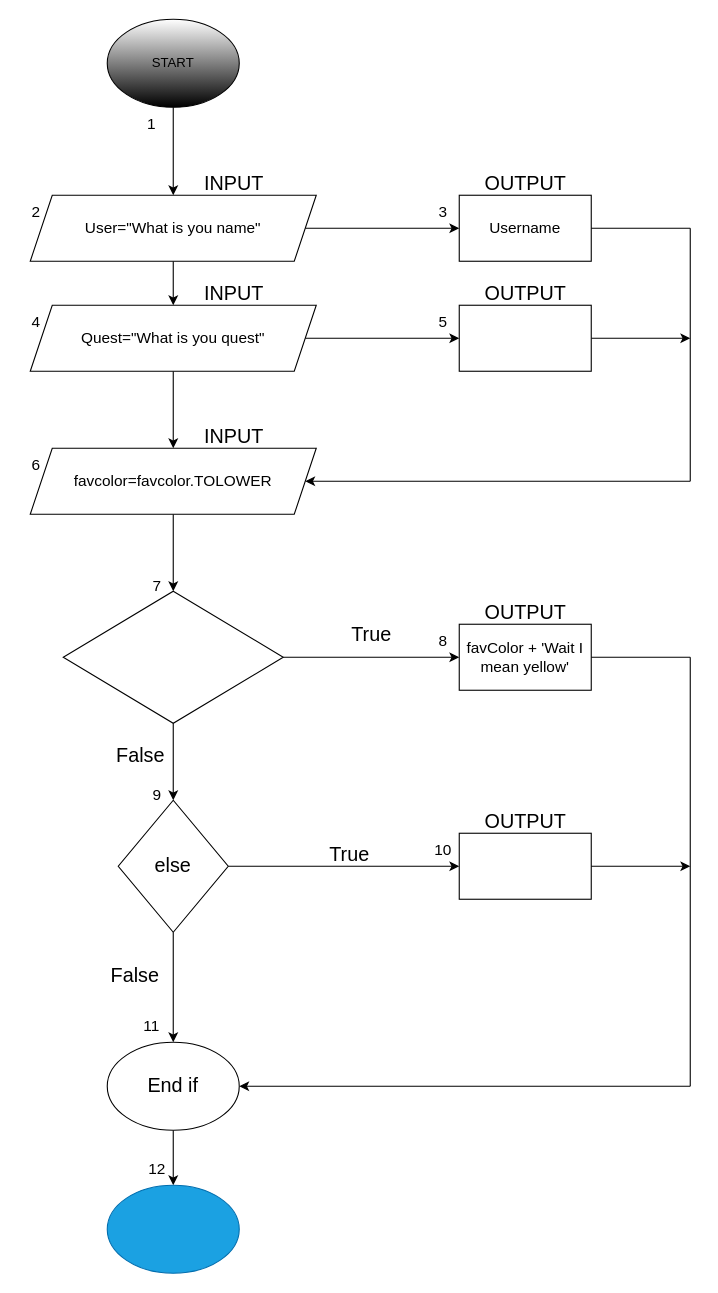
This 718x1293 diagram has some shape labels left out. The centre of each missing label's shape, as x and y in pixels:
"Off you go then": the point at 524,865
END: the point at 172,1228
if(favColor != "yellow": the point at 172,656
Quest: the point at 524,337
